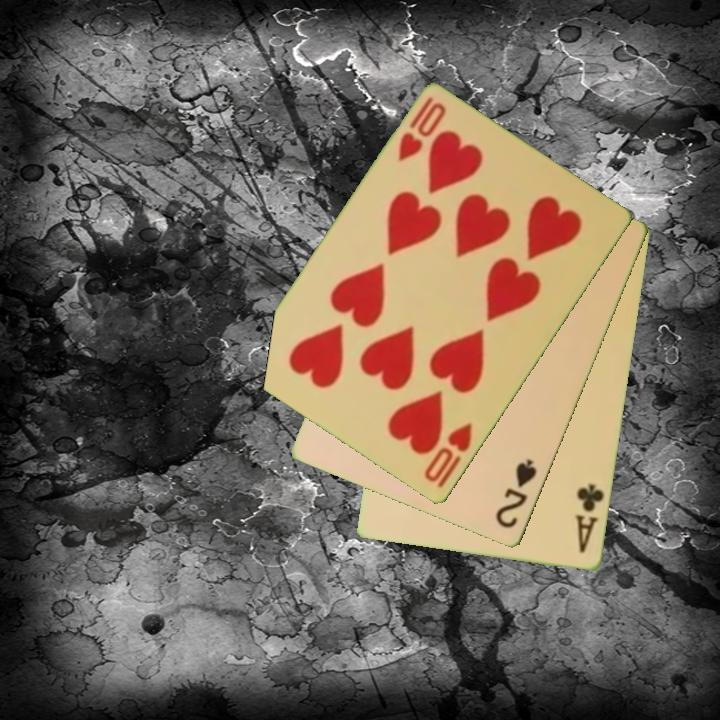10h: (420, 419, 476, 492), (395, 93, 450, 165)
2s: (492, 455, 540, 532)
Ac: (571, 481, 608, 557)
